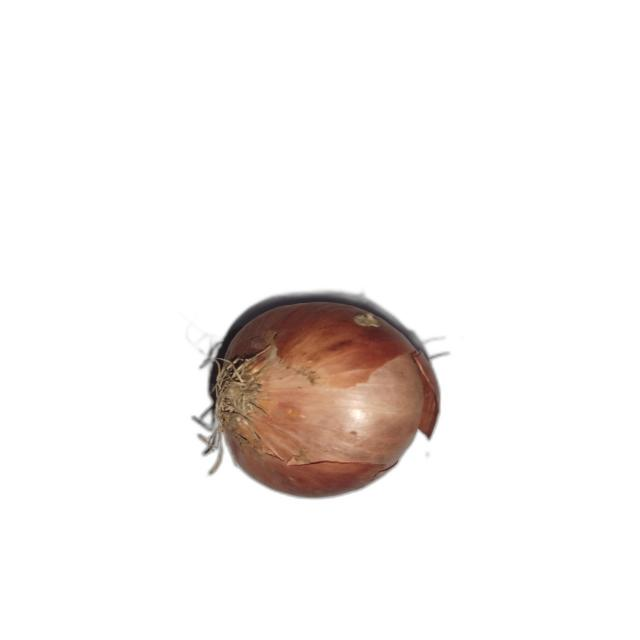onion: (209, 302, 438, 498)
